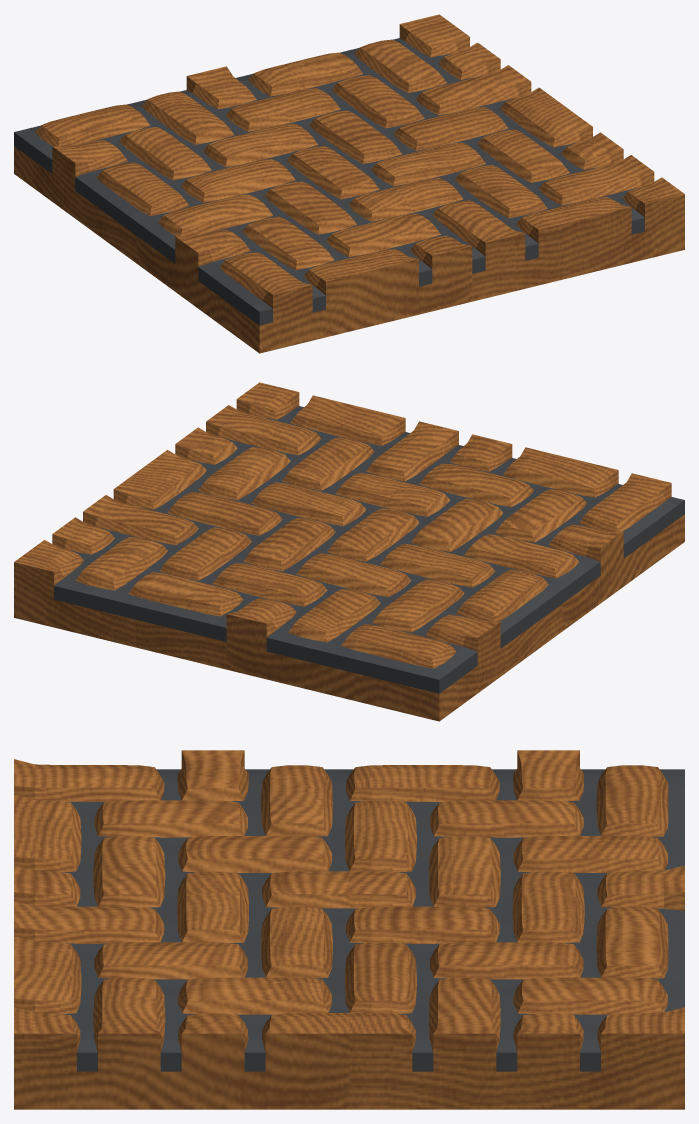
The model's file is floor_in_parquet.glb.
3 renders of one model, top to bottom at view 1: azimuth 30°, elevation 25°; view 2: azimuth 150°, elevation 25°; view 3: azimuth 270°, elevation 25°, orthographic. The views are drawn at different scales.
Visible parts, largest first — view 1: town_floor_in_parquet; view 2: town_floor_in_parquet; view 3: town_floor_in_parquet.
Part boxes in pixels (x1,y1,x2,y2): town_floor_in_parquet: (14,14,684,353); town_floor_in_parquet: (14,382,684,721); town_floor_in_parquet: (14,750,684,1109).
Bounding box in the file's own units: 1 × 0.125 × 1.
Materials: 2 (1 with a texture image).
